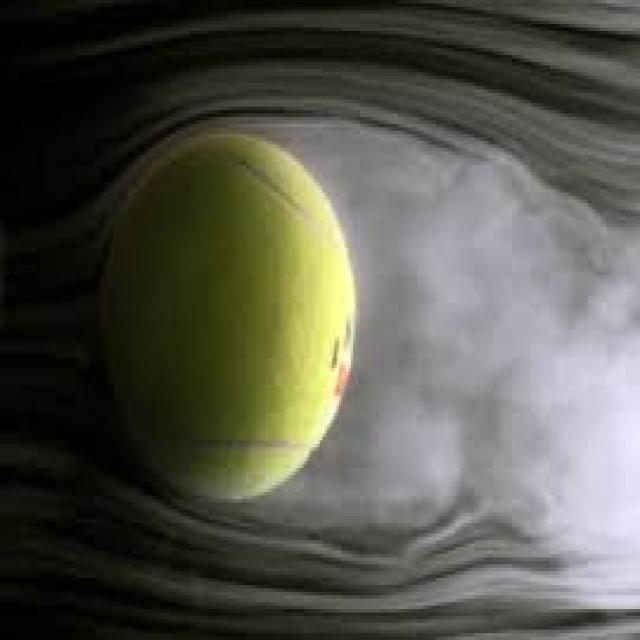ball: (96, 130, 357, 502)
